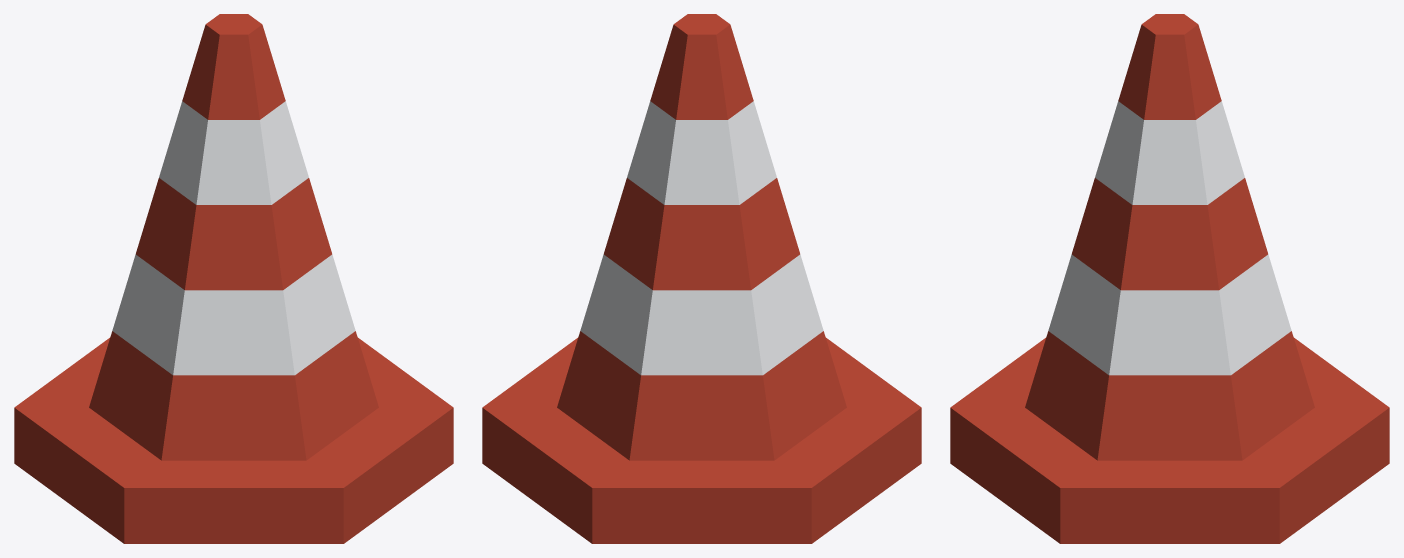
The model's file is Road_Objects_Pontoon.fbx.
3 renders of one model, left to right at view 1: azimuth 30°, elevation 25°; view 2: azimuth 150°, elevation 25°; view 3: azimuth 270°, elevation 25°, orthographic.
Parts seen in each view (by area): view 1: Road_Objects_Pontoon; view 2: Road_Objects_Pontoon; view 3: Road_Objects_Pontoon.
Boxes of the visible parts, box(x1,y1,x2,y2) form: Road_Objects_Pontoon: box(14, 14, 453, 543); Road_Objects_Pontoon: box(482, 14, 921, 543); Road_Objects_Pontoon: box(950, 14, 1389, 543).
Bounding box in the file's own units: 50.47 × 64.29 × 58.28.
